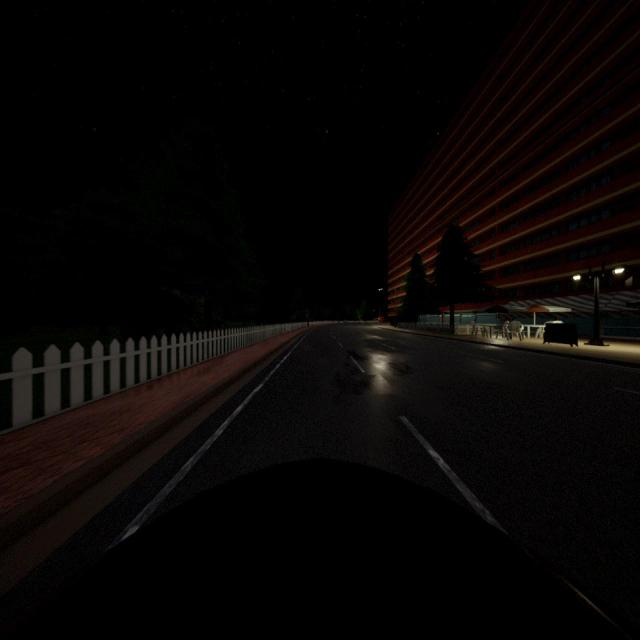Vehicle: (0, 463, 640, 640), (374, 316, 384, 324)
